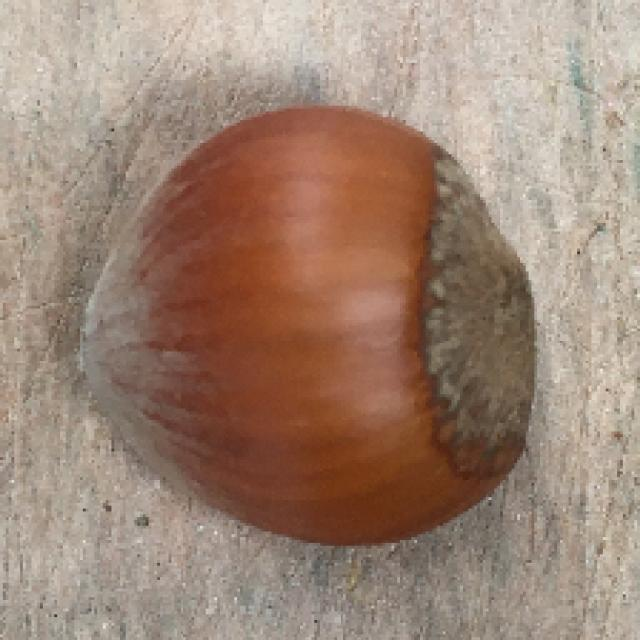qualityHazelnut: (67, 98, 545, 556)
